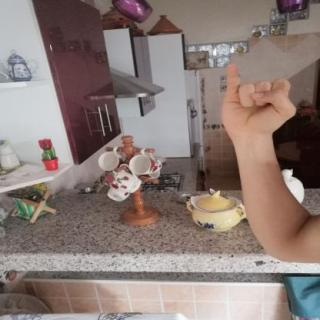MEEM: (208, 56, 302, 140)
